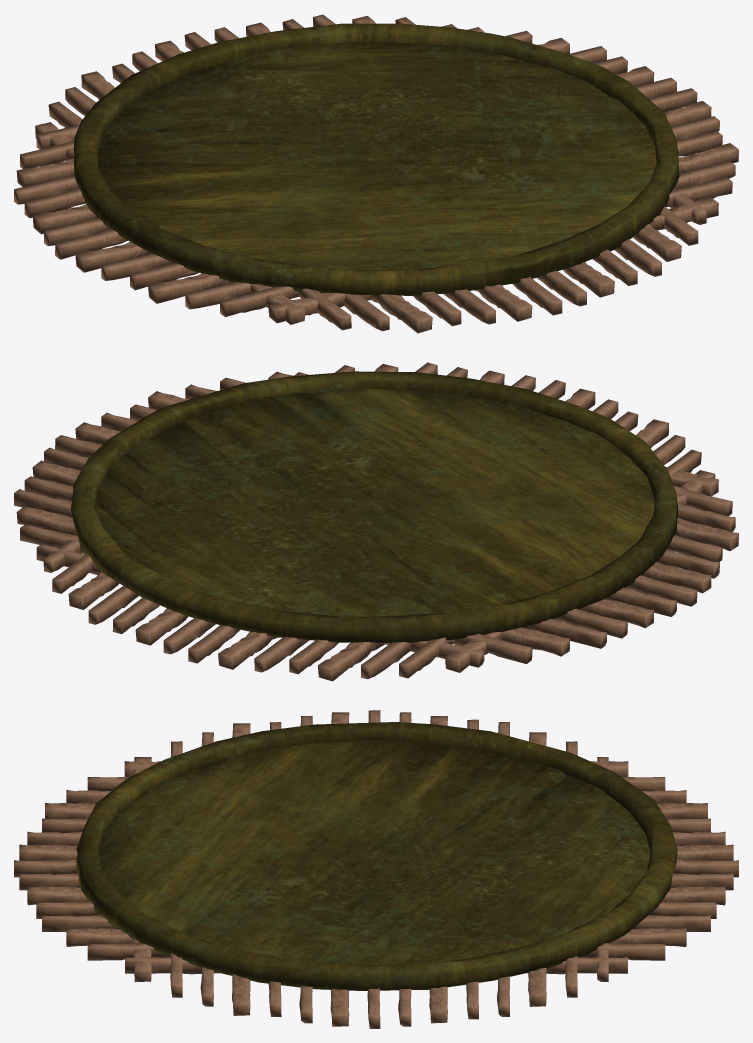
Rendered from SM_platform_large_plate.fbx.
The picture shows the model from 3 angles, top to bottom: view 1: azimuth 30°, elevation 25°; view 2: azimuth 150°, elevation 25°; view 3: azimuth 270°, elevation 25°; orthographic projection.
Visible parts, largest first — view 1: platform_large_plate; view 2: platform_large_plate; view 3: platform_large_plate.
Boxes of the visible parts, left/top/right/bottom form: platform_large_plate: left=14, top=14, right=738, bottom=333; platform_large_plate: left=14, top=362, right=738, bottom=681; platform_large_plate: left=14, top=710, right=738, bottom=1028.
Bounding box in the file's own units: 1977 × 95.91 × 1977.
